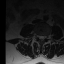CCS_normal: (40, 32, 42, 42)
LFS_normal: (45, 32, 47, 41)
LLS_normal: (42, 32, 45, 41)
RFS_normal: (36, 31, 38, 39)
RLS_normal: (38, 32, 40, 41)
